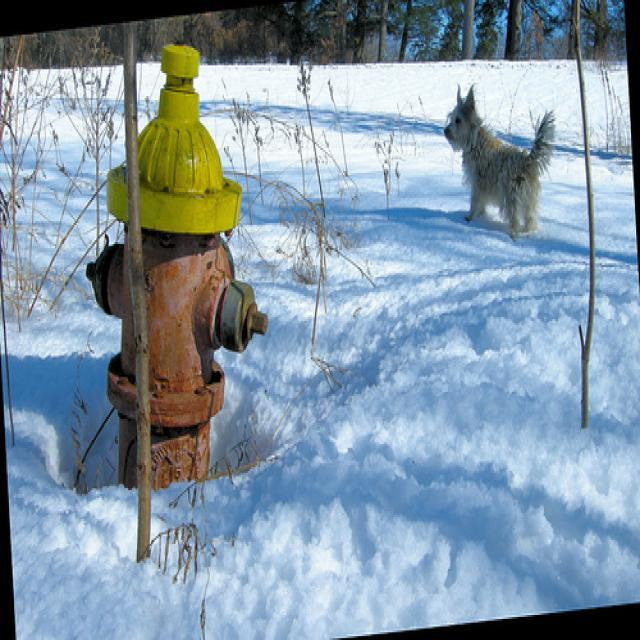fire_hydrant: (83, 46, 268, 490)
